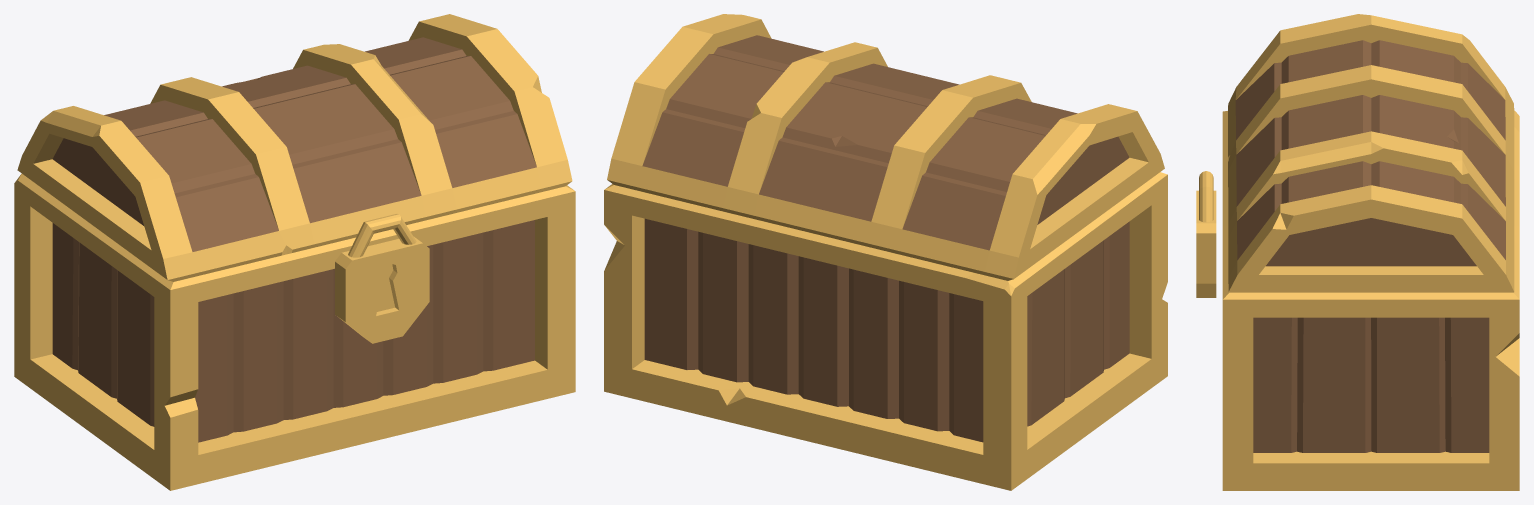
The model's file is treasure_chest.fbx.
3 views of the same model, side by side, from view 1: azimuth 30°, elevation 25°; view 2: azimuth 150°, elevation 25°; view 3: azimuth 270°, elevation 25° (orthographic). The views are drawn at different scales.
Parts seen in each view (by area): view 1: treasure_chest; view 2: treasure_chest; view 3: treasure_chest.
Boxes of the visible parts, x1,y1,x2,y2 form: treasure_chest: (14,14,575,490); treasure_chest: (604,14,1167,490); treasure_chest: (1196,14,1519,490).
Bounding box in the file's own units: 150 × 108 × 109.
